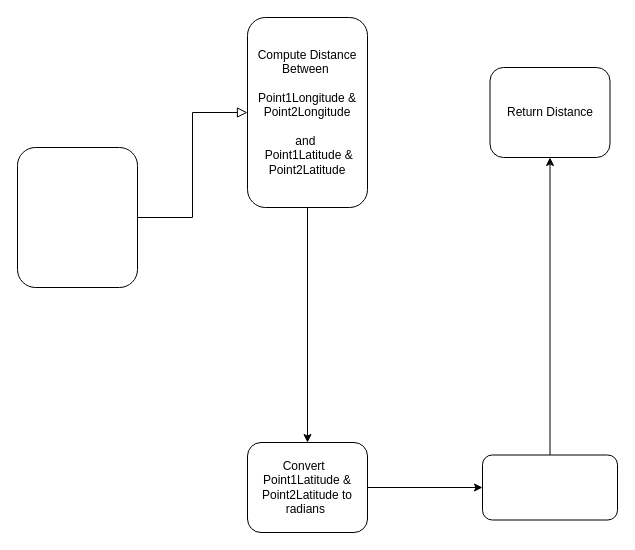
Image size: 635x550. Some labels were removed from this diagram. Each missing label, with the centre of its shape:
"Apply Formula Define Rad" belongs at (x=550, y=487).
"Parameters Point1 (Longitude, Latitude) Point2 (Longitude, Latitude)" belongs at (x=77, y=217).
